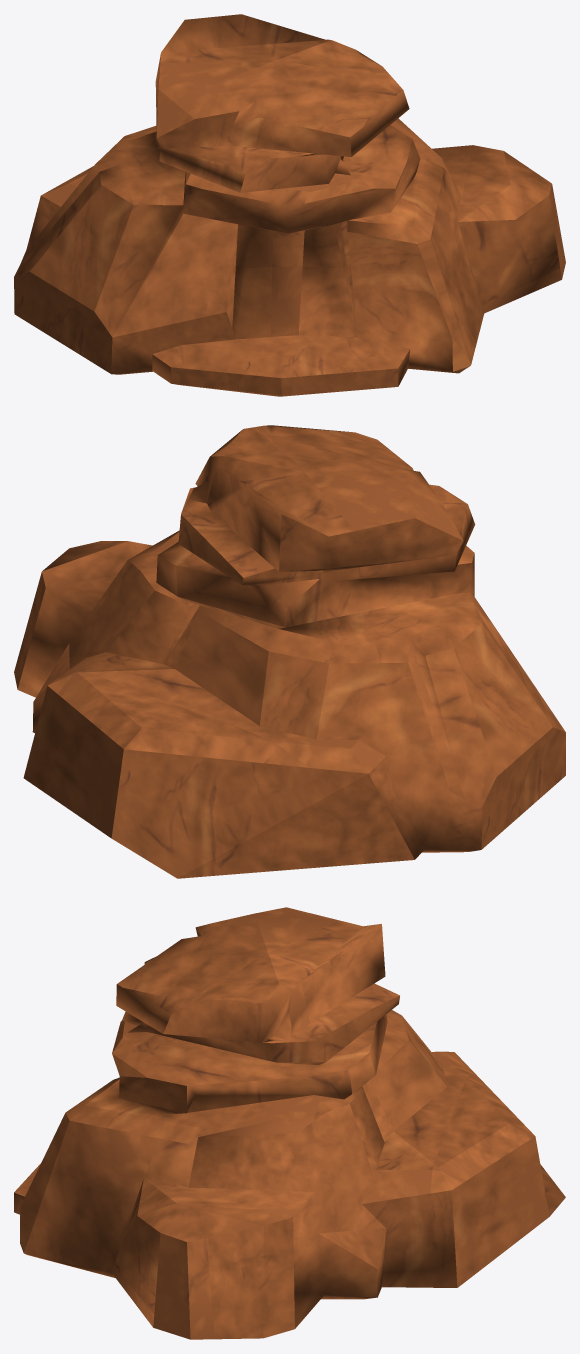
Rendered from rock8.fbx.
3 renders of one model, top to bottom at view 1: azimuth 30°, elevation 25°; view 2: azimuth 150°, elevation 25°; view 3: azimuth 270°, elevation 25°, orthographic. The views are drawn at different scales.
Visible parts, largest first — view 1: 8; view 2: 8; view 3: 8.
Boxes of the visible parts, x1,y1,x2,y2 form: 8: (14,14,565,396); 8: (14,425,565,878); 8: (14,907,565,1339).
Bounding box in the file's own units: 50.11 × 27.26 × 48.44.
Materials: 1 (1 with a texture image).
